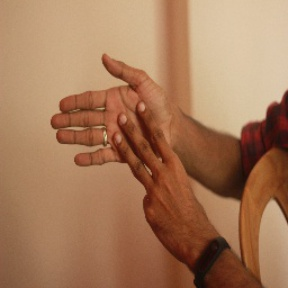M: (50, 51, 183, 201)
